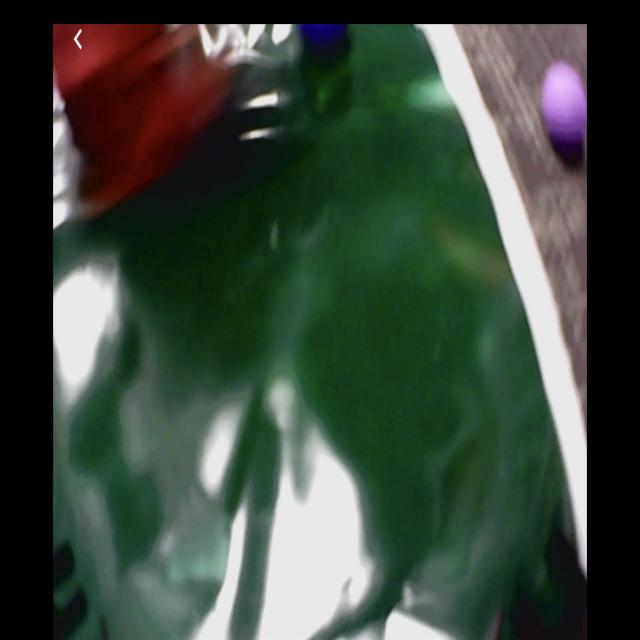ball: (542, 64, 586, 142), (301, 25, 349, 45)
